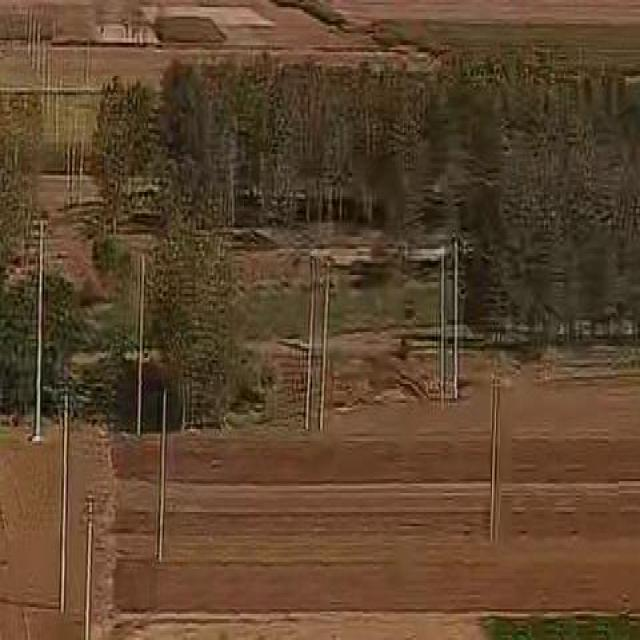other: (37, 374, 333, 590)
